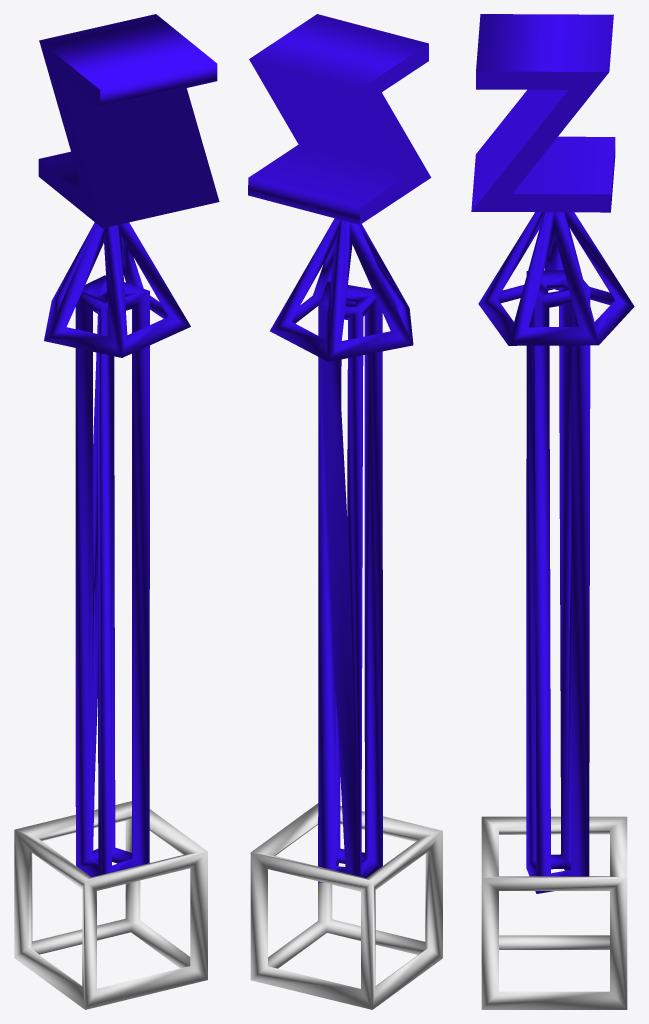
The model's file is EjeZ.fbx.
3 views of the same model, side by side, from view 1: azimuth 30°, elevation 25°; view 2: azimuth 150°, elevation 25°; view 3: azimuth 270°, elevation 25° (orthographic). The views are drawn at different scales.
Parts seen in each view (by area): view 1: z.002, Text.003; view 2: z.002, Text.003; view 3: z.002, Text.003.
Part boxes in pixels (box(x1,y1,x2,y2)): z.002: box(14, 222, 207, 1009); Text.003: box(38, 14, 219, 228); z.002: box(250, 218, 442, 1009); Text.003: box(248, 14, 431, 224); z.002: box(478, 212, 634, 1009); Text.003: box(471, 14, 615, 212).
Size of the model in its own units: 72.63 by 458 by 71.92.
